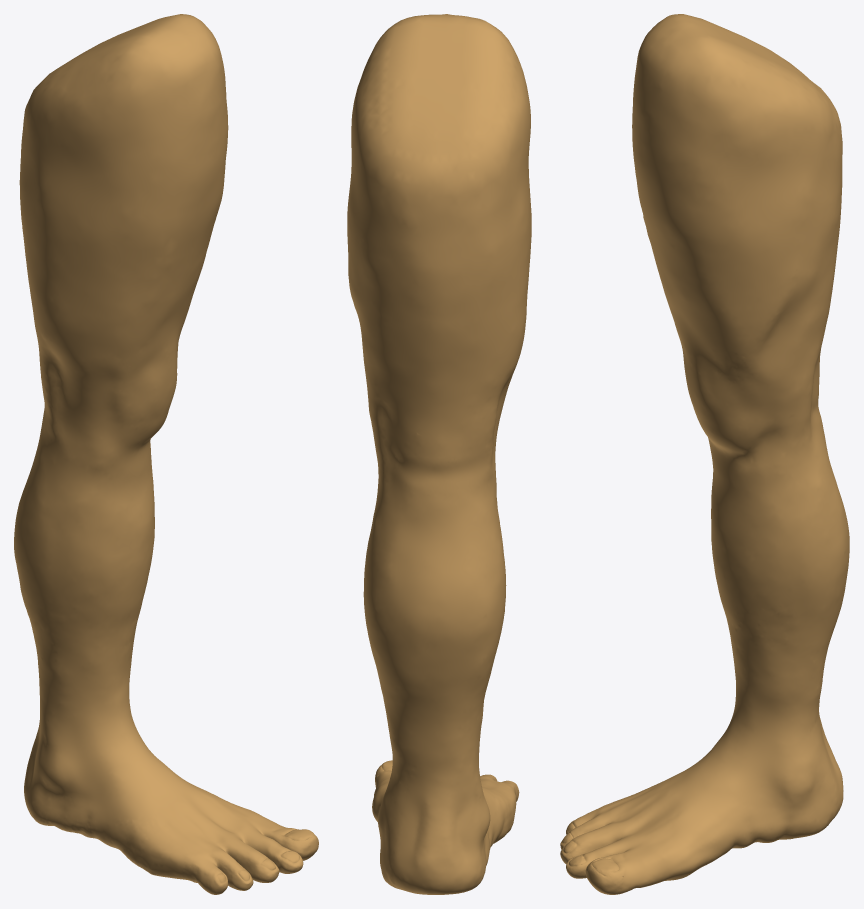
File: mah_leg.glb
3 renders of one model, left to right at view 1: azimuth 30°, elevation 25°; view 2: azimuth 150°, elevation 25°; view 3: azimuth 270°, elevation 25°, orthographic.
Parts seen in each view (by area): view 1: Cube (×2); view 2: Cube (×2); view 3: Cube (×2).
Boxes of the visible parts, box(x1,y1,x2,y2) form: Cube (×2): box(14, 14, 318, 894); Cube (×2): box(347, 14, 531, 894); Cube (×2): box(560, 14, 849, 894).
Bounding box in the file's own units: 2.01 × 7.58 × 2.41.
